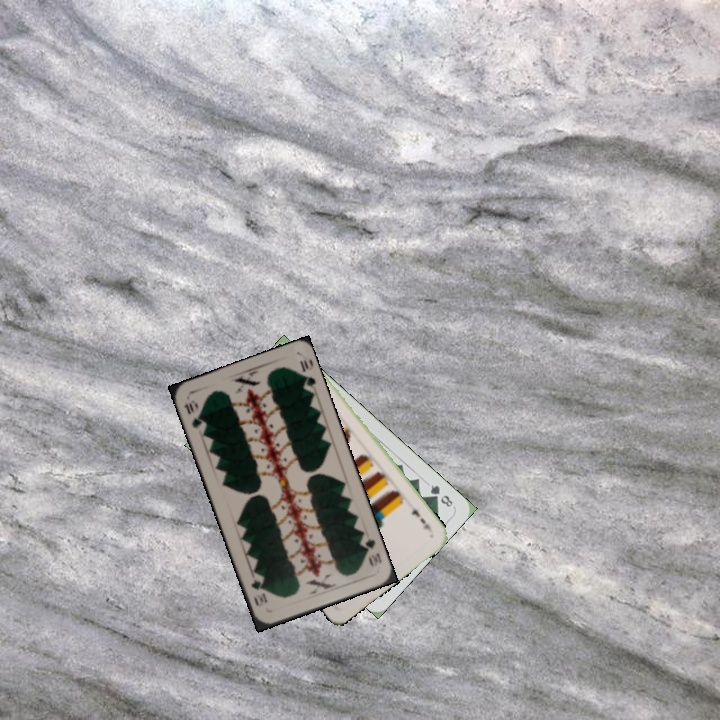E7: (407, 505, 434, 535)
G10: (357, 533, 385, 568), (179, 396, 206, 431)
G8: (426, 480, 456, 510)
